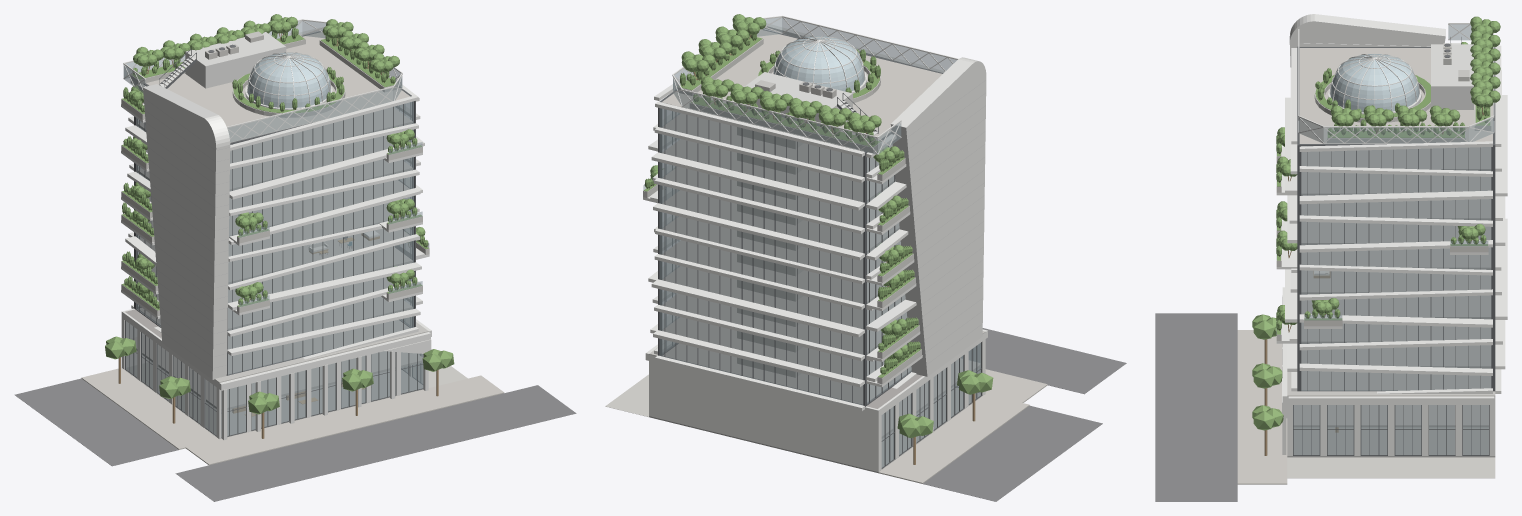
The model's file is clay-student-residence-tower-clay-v003.glb.
The picture shows the model from 3 angles, left to right: view 1: azimuth 30°, elevation 25°; view 2: azimuth 150°, elevation 25°; view 3: azimuth 270°, elevation 25°; orthographic projection. The views are drawn at different scales.
Visible parts, largest first — view 1: CLAY_GLASS, CLAY_FLOOR, CLAY_WHITE, CLAY_ASPHALT, CLAY_WALL, CLAY_SAND, CLAY_PLANTING, CLAY_TRIM, CLAY_CONCRETE, CLAY_FOUNDATION, CLAY_DOMEGLASS, CLAY_PALE (+3 smaller); view 2: CLAY_GLASS, CLAY_WHITE, CLAY_FLOOR, CLAY_WALL, CLAY_PLANTING, CLAY_ASPHALT, CLAY_SAND, CLAY_TRIM, CLAY_CONCRETE, CLAY_DOMEGLASS, CLAY_FOUNDATION, CLAY_PALE (+1 smaller); view 3: CLAY_GLASS, CLAY_FLOOR, CLAY_WHITE, CLAY_ASPHALT, CLAY_PLANTING, CLAY_SAND, CLAY_TRIM, CLAY_CONCRETE, CLAY_FOUNDATION, CLAY_WALL, CLAY_DOMEGLASS, CLAY_PALE (+2 smaller).
Part boxes in pixels (x1,y1,x2,y2): CLAY_GLASS: [123, 21, 429, 436]; CLAY_FLOOR: [125, 102, 422, 410]; CLAY_WHITE: [121, 19, 431, 440]; CLAY_ASPHALT: [14, 378, 576, 501]; CLAY_WALL: [143, 84, 230, 379]; CLAY_SAND: [81, 32, 504, 465]; CLAY_PLANTING: [105, 14, 454, 414]; CLAY_TRIM: [125, 31, 423, 438]; CLAY_CONCRETE: [121, 34, 467, 387]; CLAY_FOUNDATION: [125, 361, 423, 438]; CLAY_DOMEGLASS: [247, 52, 330, 108]; CLAY_PALE: [185, 32, 378, 236]; CLAY_GLASS: [643, 17, 980, 467]; CLAY_WHITE: [643, 15, 987, 471]; CLAY_FLOOR: [662, 113, 980, 438]; CLAY_WALL: [890, 57, 986, 376]; CLAY_PLANTING: [643, 14, 993, 438]; CLAY_ASPHALT: [923, 328, 1126, 501]; CLAY_SAND: [662, 30, 1047, 483]; CLAY_TRIM: [658, 29, 981, 468]; CLAY_CONCRETE: [605, 38, 921, 416]; CLAY_DOMEGLASS: [774, 36, 864, 91]; CLAY_FOUNDATION: [649, 387, 981, 473]; CLAY_PALE: [744, 72, 852, 128]; CLAY_GLASS: [1276, 24, 1493, 454]; CLAY_FLOOR: [1293, 146, 1491, 427]; CLAY_WHITE: [1276, 23, 1507, 456]; CLAY_ASPHALT: [1155, 313, 1237, 501]; CLAY_PLANTING: [1252, 16, 1500, 430]; CLAY_SAND: [1237, 48, 1492, 484]; CLAY_TRIM: [1293, 46, 1495, 455]; CLAY_CONCRETE: [1276, 75, 1495, 478]; CLAY_FOUNDATION: [1287, 427, 1495, 457]; CLAY_WALL: [1289, 14, 1445, 67]; CLAY_DOMEGLASS: [1330, 54, 1419, 112]; CLAY_PALE: [1314, 44, 1473, 274].
Bounding box in the file's own units: 60 × 46.54 × 42.7.
